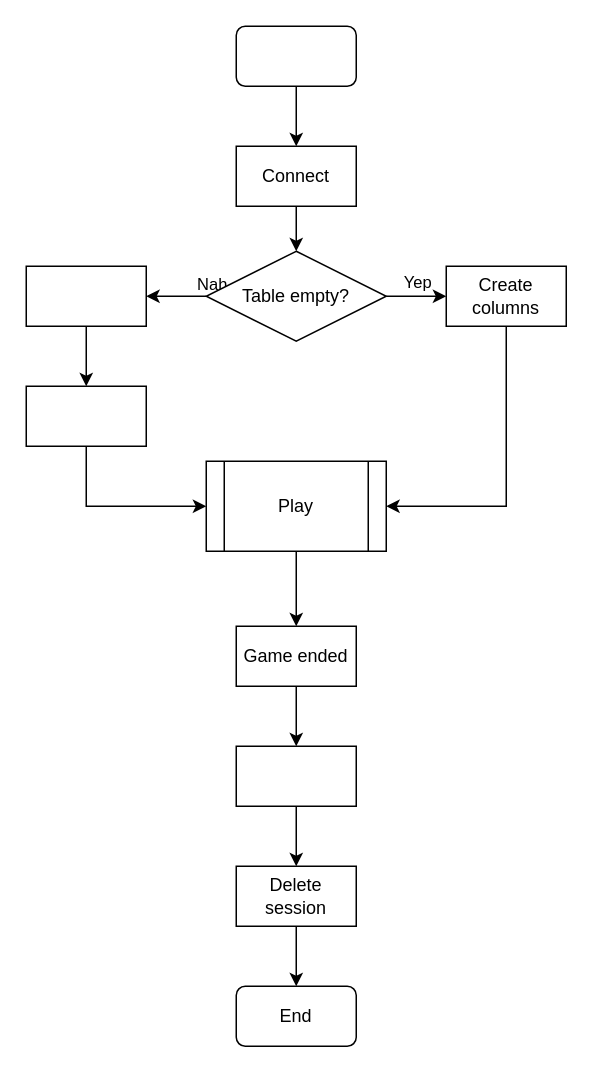
The diagram is 593 pixels wide and 1073 high, and some of its shapes have lost their labels. The centre of each missing label's shape, as x and y in pixels:
"Load to Board" belongs at point 85,415.
"Select last record" belongs at point 85,295.
"Start" belongs at point 295,55.
"Write to the leaderboard" belongs at point 295,775.
